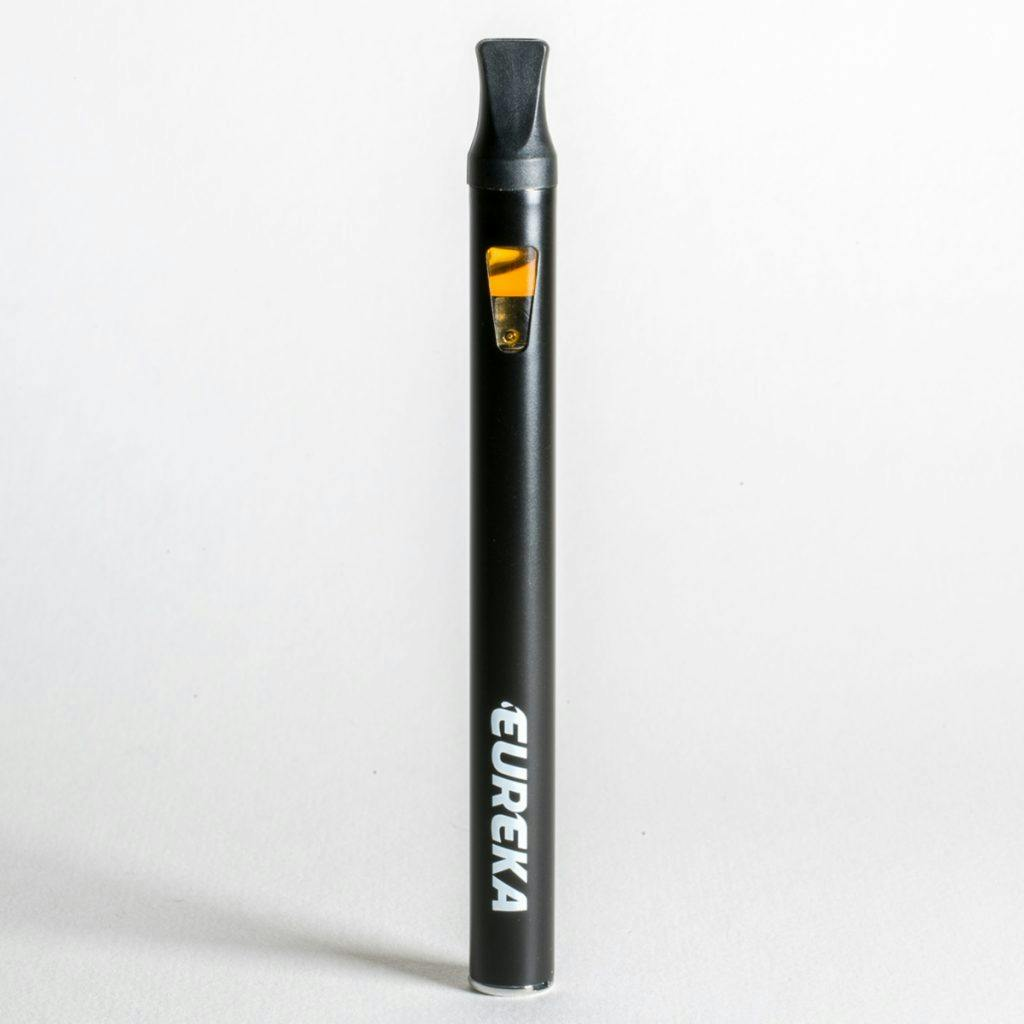weed_pen: (9, 61, 1023, 1011)
